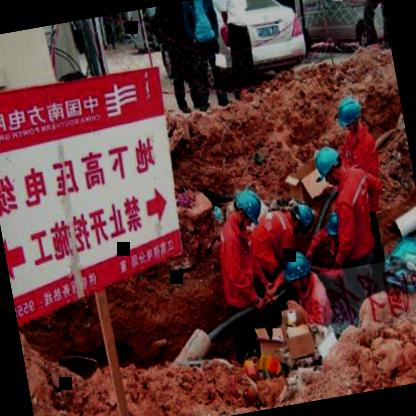helmet: (224, 188, 266, 233), (282, 248, 315, 294), (310, 142, 344, 185), (334, 90, 367, 134), (284, 200, 315, 235)
